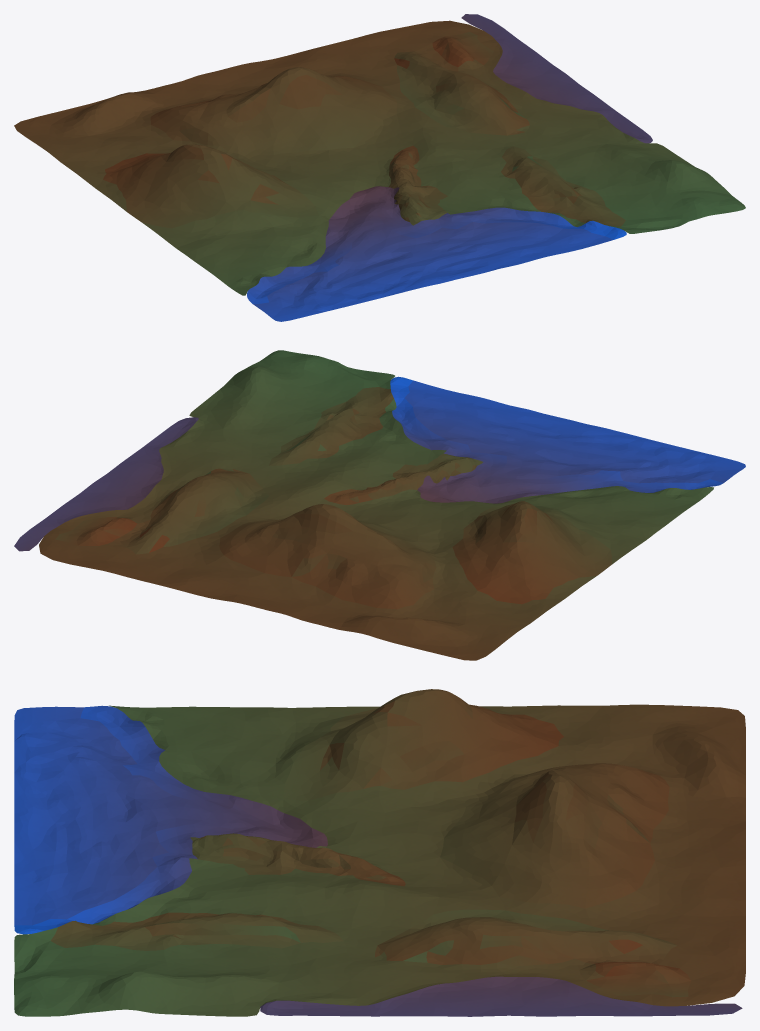
File: WhyNot_RTS_Map1_high.fbx
3 views of the same model, one above another, from view 1: azimuth 30°, elevation 25°; view 2: azimuth 150°, elevation 25°; view 3: azimuth 270°, elevation 25° (orthographic). The views are drawn at different scales.
Visible parts, largest first — view 1: 평면.004, 평면.006; view 2: 평면.004, 평면.006; view 3: 평면.004, 평면.006.
Part boxes in pixels (left/top/right/bottom): 평면.004: left=14, top=20, right=745, bottom=295; 평면.006: left=247, top=14, right=652, bottom=321; 평면.004: left=39, top=350, right=713, bottom=660; 평면.006: left=14, top=376, right=745, bottom=551; 평면.004: left=14, top=689, right=745, bottom=1016; 평면.006: left=14, top=705, right=742, bottom=1016.
Bounding box in the file's own units: 20007 × 2426 × 20013.
